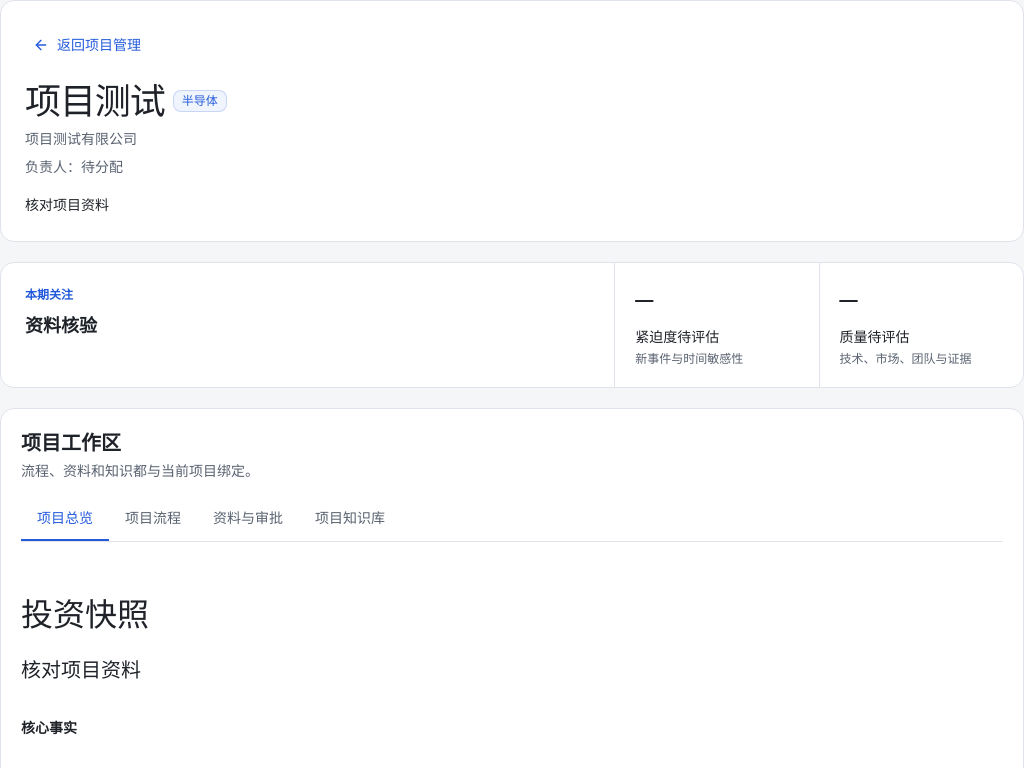
Test: uses server permissions to keep read-only members from posting or reviewing
Step 1. Click the tab "资料与审批" → (248, 519), box top-left (197, 497), bottom-right (299, 541)
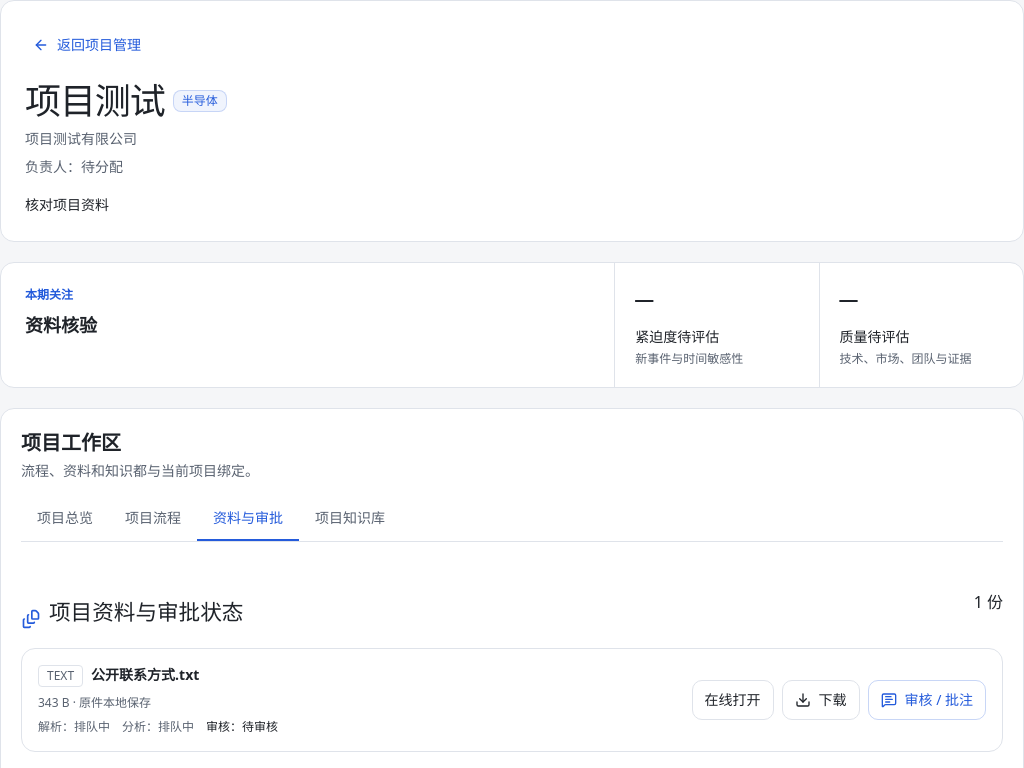
Step 2. Click the button with aria-label "审核 / 批注 公开联系方式.txt" → (927, 700), box top-left (868, 680), bottom-right (986, 720)
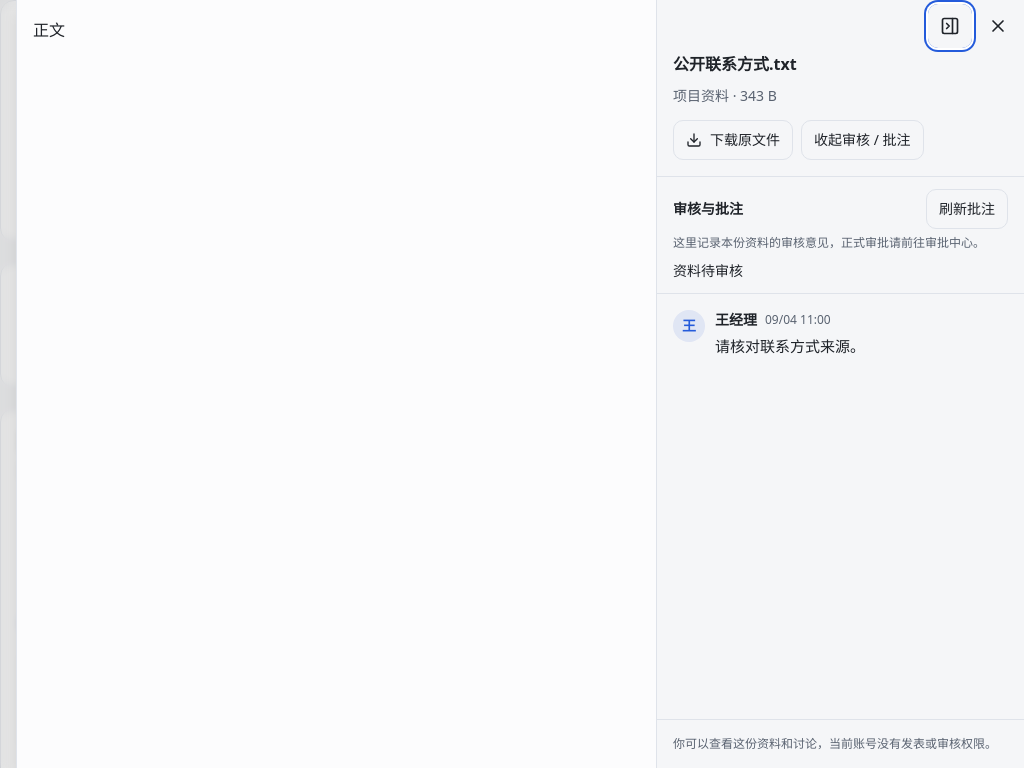
Expected: the text "请核对联系方式来源。" is shown, top-left (715, 336), bottom-right (865, 356)
